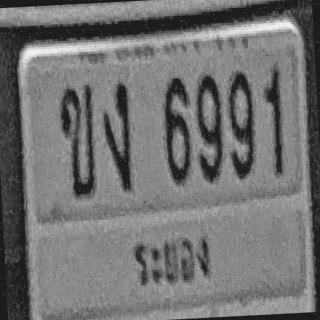A02: (58, 83, 98, 198)
A07: (102, 81, 133, 190)
N01: (263, 64, 285, 176)
N06: (162, 76, 193, 182)
N09: (194, 73, 224, 182), (227, 68, 256, 178)
P53: (130, 224, 221, 302)
